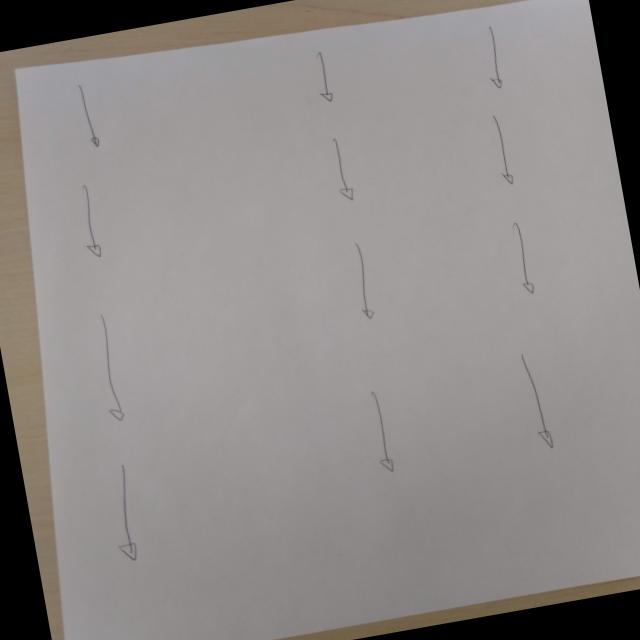arrow_line_down: (84, 308, 134, 425), (510, 349, 564, 456), (102, 460, 152, 568), (72, 179, 120, 264), (72, 78, 122, 154), (364, 390, 404, 478), (482, 108, 524, 190), (502, 216, 544, 296), (473, 18, 513, 92), (323, 134, 363, 208), (348, 242, 380, 324), (305, 48, 343, 103)
